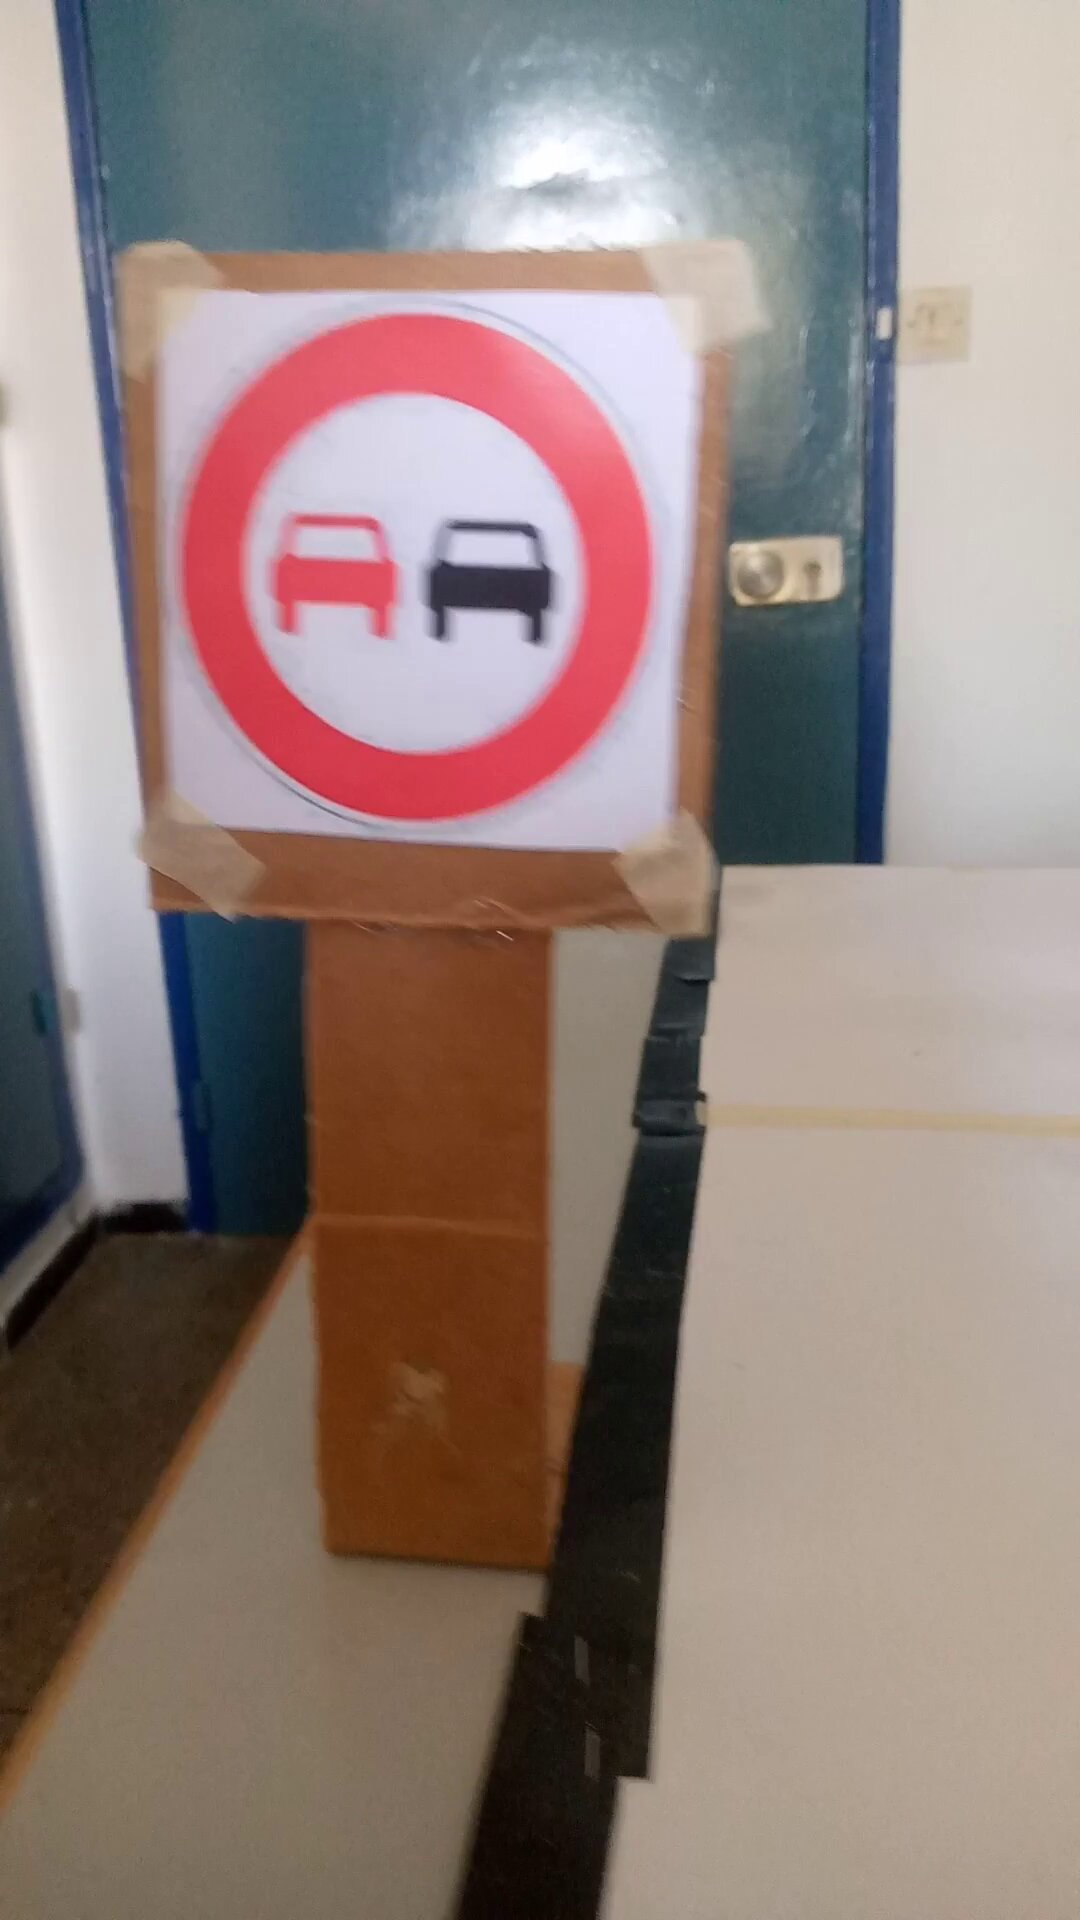panel100: (156, 269, 698, 866)
